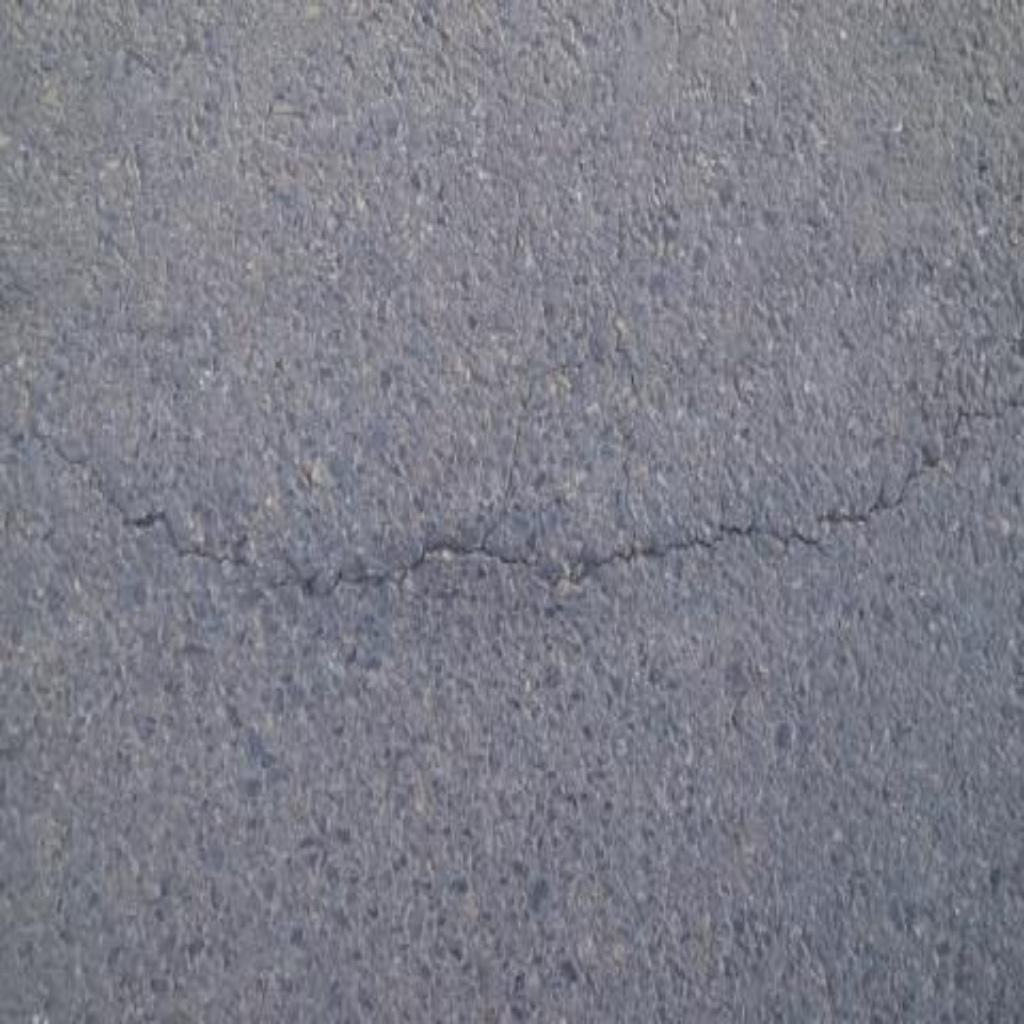Crack: (1, 400, 1024, 601)
